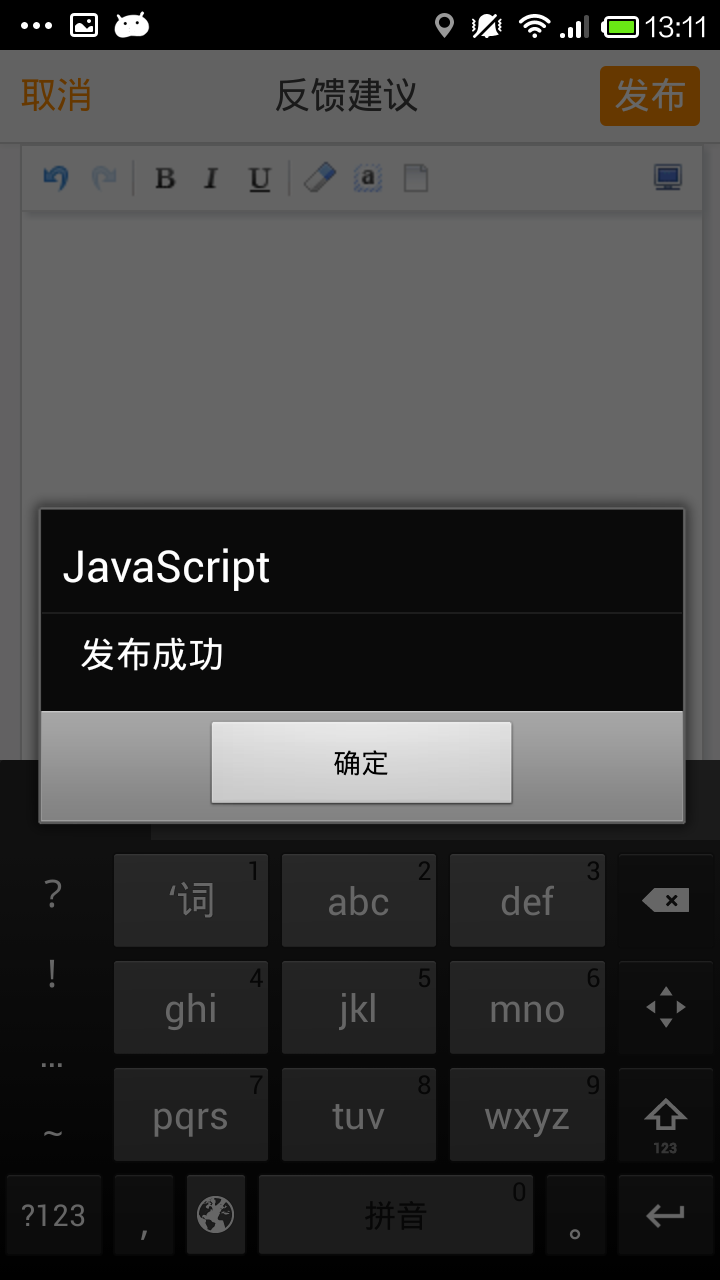alert: (15, 494, 699, 838)
button: (579, 63, 715, 130)
